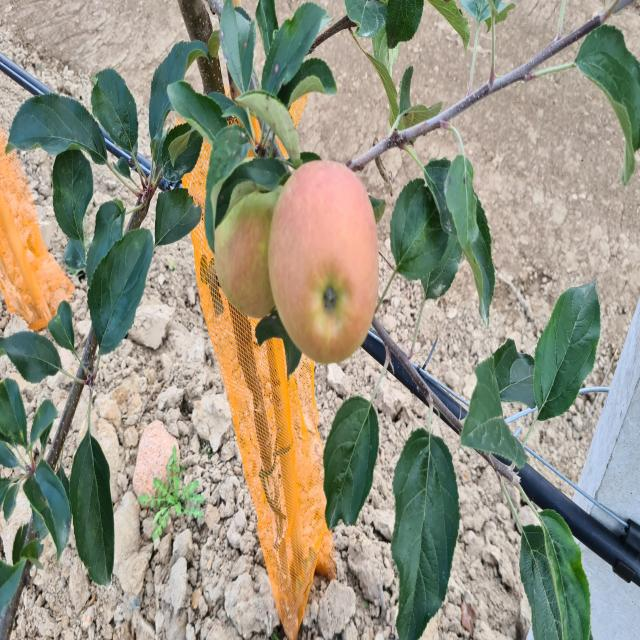Apple: (269, 160, 379, 364), (215, 189, 281, 318)
